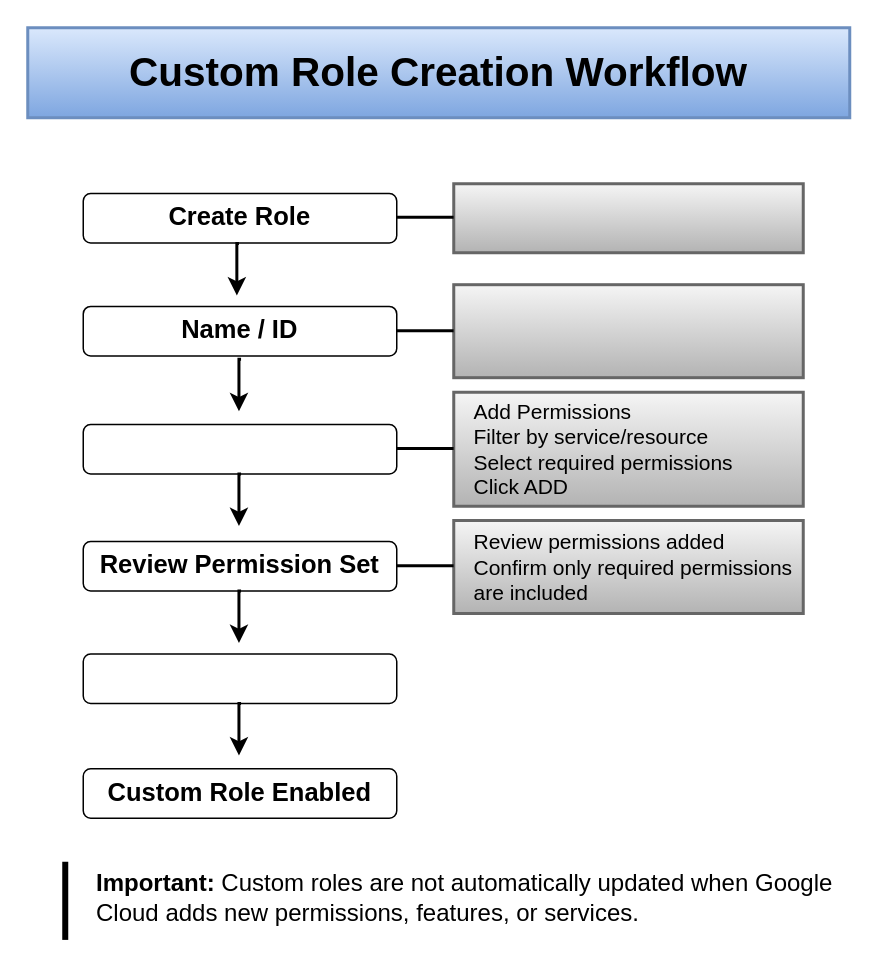
This 876x971 diagram has some shape labels left out. The shapes that lost their labels are listed below. From the top down, each one's box as (x1, y1, x2, y2) in pixels, then its label:
(452, 182, 804, 254): IAM & Admin → Roles Select a role → Create Role
(452, 282, 804, 378): Enter Title and ID Select role launch stage Click Create
(82, 423, 397, 474): Select Permissions
(82, 652, 397, 704): Create
